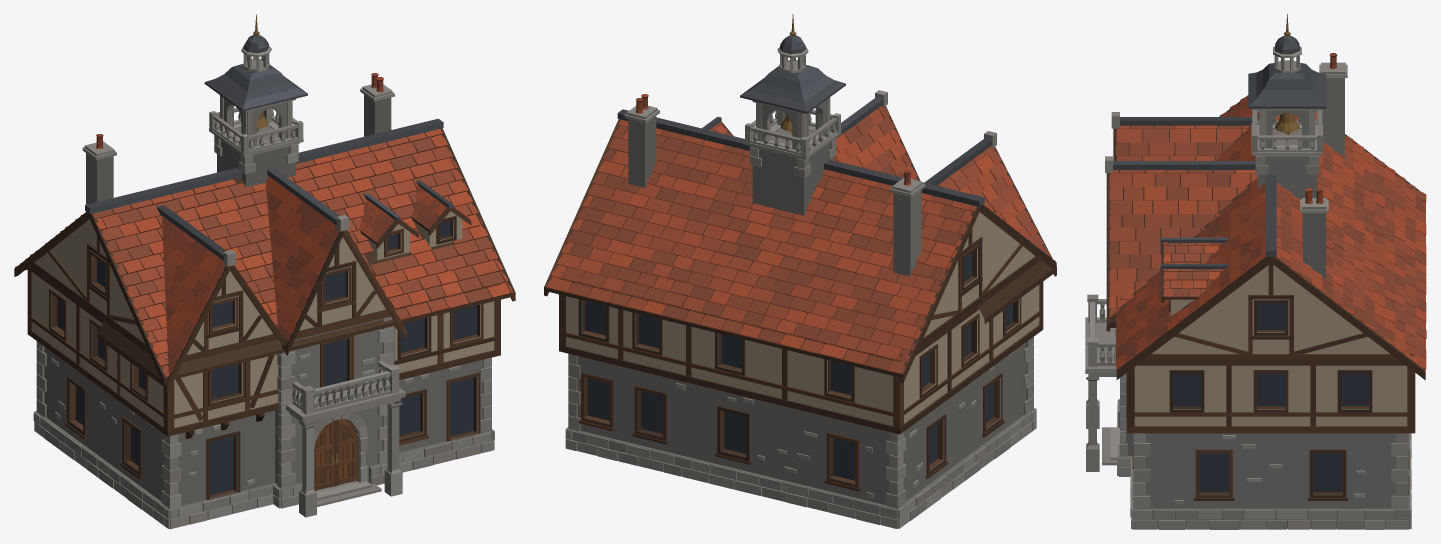
File: village-hall-c6d3c8.glb
3 views of the same model, side by side, from view 1: azimuth 30°, elevation 25°; view 2: azimuth 150°, elevation 25°; view 3: azimuth 270°, elevation 25° (orthographic). The views are drawn at different scales.
Parts seen in each view (by area): view 1: object 1, door-r, door-l; view 2: object 1; view 3: object 1.
Part boxes in pixels (x1,y1,x2,y2): object 1: (14,14,515,529); door-r: (334,418,357,486); door-l: (313,420,335,490); object 1: (544,14,1056,528); object 1: (1085,14,1426,529).
Bounding box in the file's own units: 15.54 × 17.65 × 12.59.
